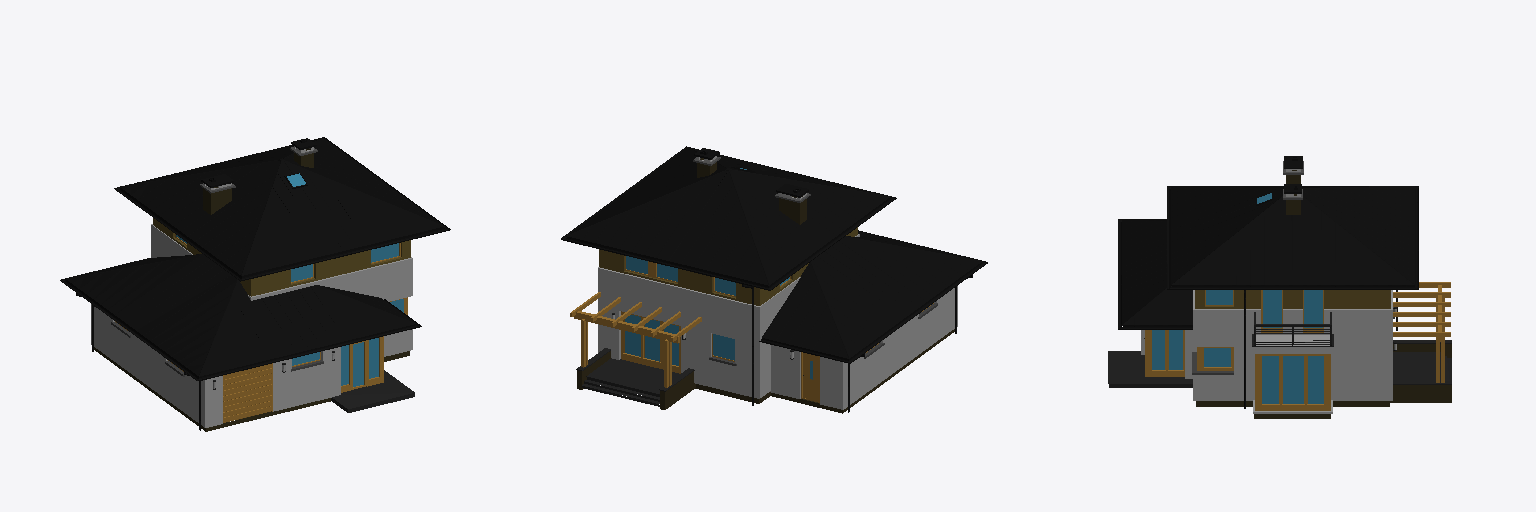
File: casa_buena.obj
3 renders of one model, left to right at view 1: azimuth 30°, elevation 25°; view 2: azimuth 150°, elevation 25°; view 3: azimuth 270°, elevation 25°, orthographic.
Parts seen in each view (by area): view 1: Bambo_House; view 2: Bambo_House; view 3: Bambo_House.
Boxes of the visible parts, x1,y1,x2,y2 form: Bambo_House: [60, 137, 450, 431]; Bambo_House: [561, 146, 987, 413]; Bambo_House: [1108, 156, 1451, 418].
Bounding box in the file's own units: 13.63 × 9 × 14.54.